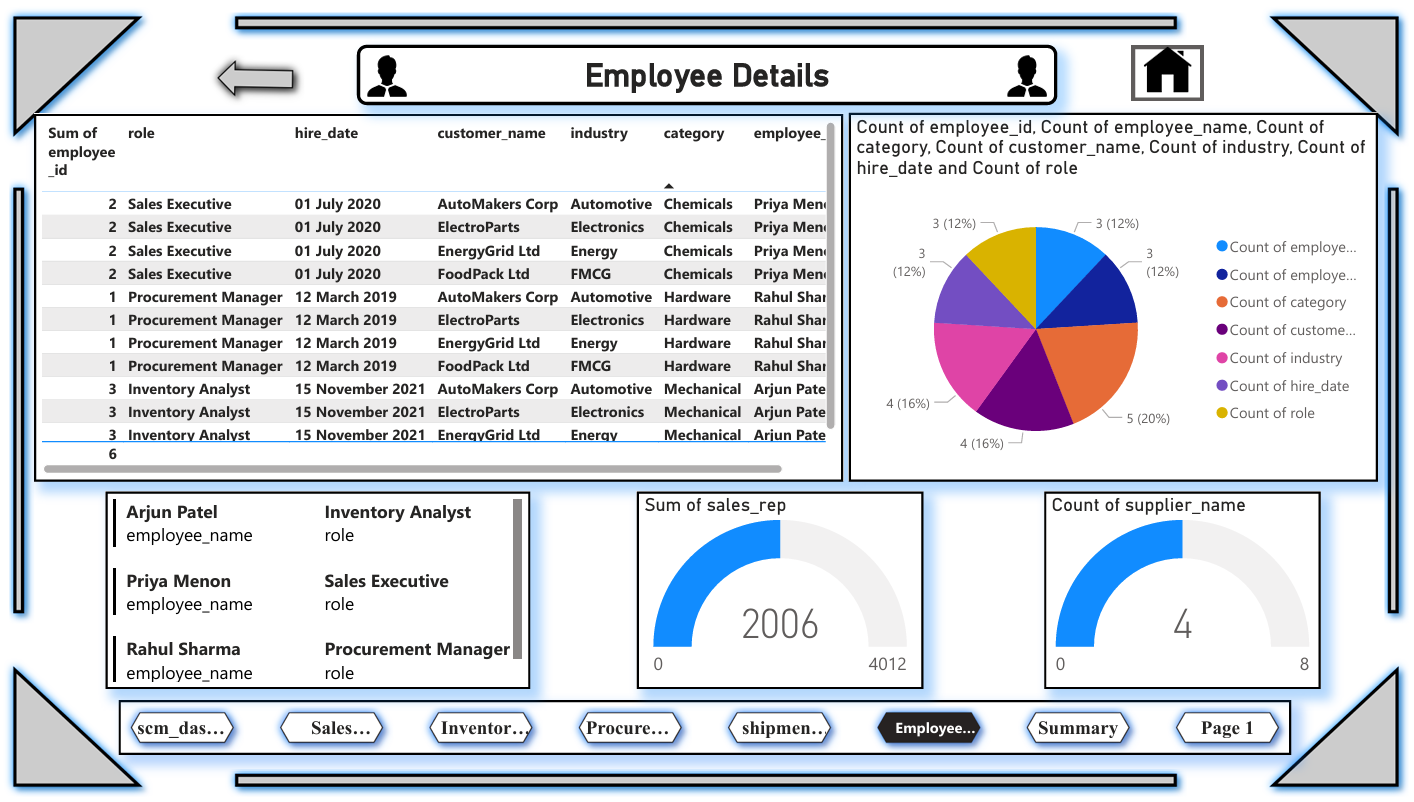

The dashboard page shown, as its layout file describes it:
{"tool":"powerbi","page":{"name":"Employee Details","canvas":[1280,720],"ordinal":5},"visuals":[{"type":"shape","box":[0,0,136,128],"z":0},{"type":"shape","box":[202,0,876,30],"z":1000},{"type":"shape","box":[1144,0,136,128],"z":2000},{"type":"shape","box":[1252,156,28,406],"z":3000},{"type":"shape","box":[1144,592,136,128],"z":4000},{"type":"shape","box":[202,690,876,30],"z":5000},{"type":"shape","box":[0,592,136,128],"z":6000},{"type":"shape","box":[0,156,28,406],"z":7000},{"type":"pageNavigator","box":[105,631.7,1068.3,50],"z":8000},{"type":"shape","box":[184.6,40.5,89.1,50.2],"z":9000},{"type":"tableEx","fields":{"Values":["dim_employee.employee_id","dim_employee.role","dim_employee.hire_date","dim_customer.customer_name","dim_customer.industry","dim_product.category","dim_employee.employee_name"]},"box":[28.3,98.3,736.7,335],"z":10000},{"type":"pieChart","fields":{"Y":["dim_employee.employee_id","dim_employee.employee_name","dim_product.category","dim_customer.customer_name","dim_customer.industry","dim_employee.hire_date","dim_employee.role"]},"box":[770,96.7,481.7,336.7],"z":11000},{"type":"textbox","box":[321.7,35,638.3,55],"z":12000},{"type":"multiRowCard","fields":{"Values":["dim_employee.employee_name","dim_employee.role"]},"box":[93.3,441.7,386.7,180],"z":13000},{"type":"gauge","fields":{"Y":["fact_sales.sales_rep"]},"box":[576.7,441.7,261.7,180],"z":14000},{"type":"gauge","fields":{"Y":["dim_supplier.supplier_name"]},"box":[948.3,441.7,251.7,180],"z":15000},{"type":"image","box":[322.2,35.6,55.1,55.1],"z":16000},{"type":"image","box":[905.1,35.6,55.1,55.1],"z":17000},{"type":"actionButton","box":[1028.2,35.6,64.8,50.2],"z":18000},{"type":"image","box":[1028.2,30.8,64.8,55.1],"z":19000}]}

Visuals, with their boxes in screenshot pixels (x1, y1, x2, y2), scaled from the page's 1280x720 canvas onto the 1414x802 screenshot:
shape: <region>0, 0, 150, 143</region>
shape: <region>223, 0, 1191, 33</region>
shape: <region>1264, 0, 1413, 143</region>
shape: <region>1383, 174, 1413, 626</region>
shape: <region>1264, 659, 1413, 801</region>
shape: <region>223, 769, 1191, 801</region>
shape: <region>0, 659, 150, 801</region>
shape: <region>0, 174, 31, 626</region>
pageNavigator: <region>116, 704, 1296, 759</region>
shape: <region>204, 45, 302, 101</region>
tableEx - dim_employee.employee_id x dim_employee.role: <region>31, 109, 845, 483</region>
pieChart - dim_employee.employee_id x dim_employee.employee_name: <region>851, 108, 1383, 483</region>
textbox: <region>355, 39, 1060, 100</region>
multiRowCard - dim_employee.employee_name x dim_employee.role: <region>103, 492, 530, 693</region>
gauge - fact_sales.sales_rep: <region>637, 492, 926, 693</region>
gauge - dim_supplier.supplier_name: <region>1048, 492, 1326, 693</region>
image: <region>356, 40, 417, 101</region>
image: <region>1000, 40, 1061, 101</region>
actionButton: <region>1136, 40, 1207, 96</region>
image: <region>1136, 34, 1207, 96</region>
